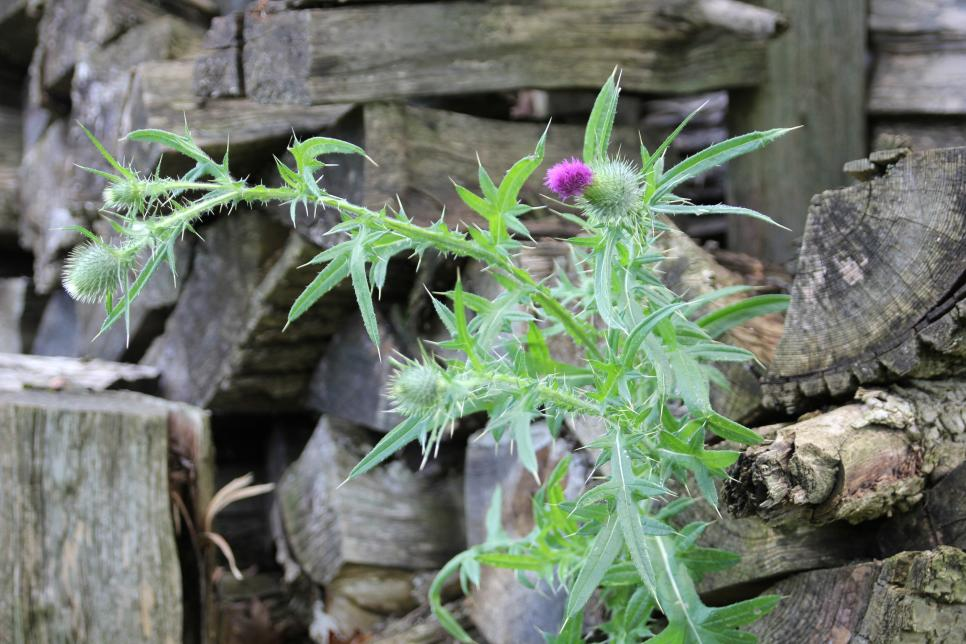thistle: (542, 152, 649, 226)
